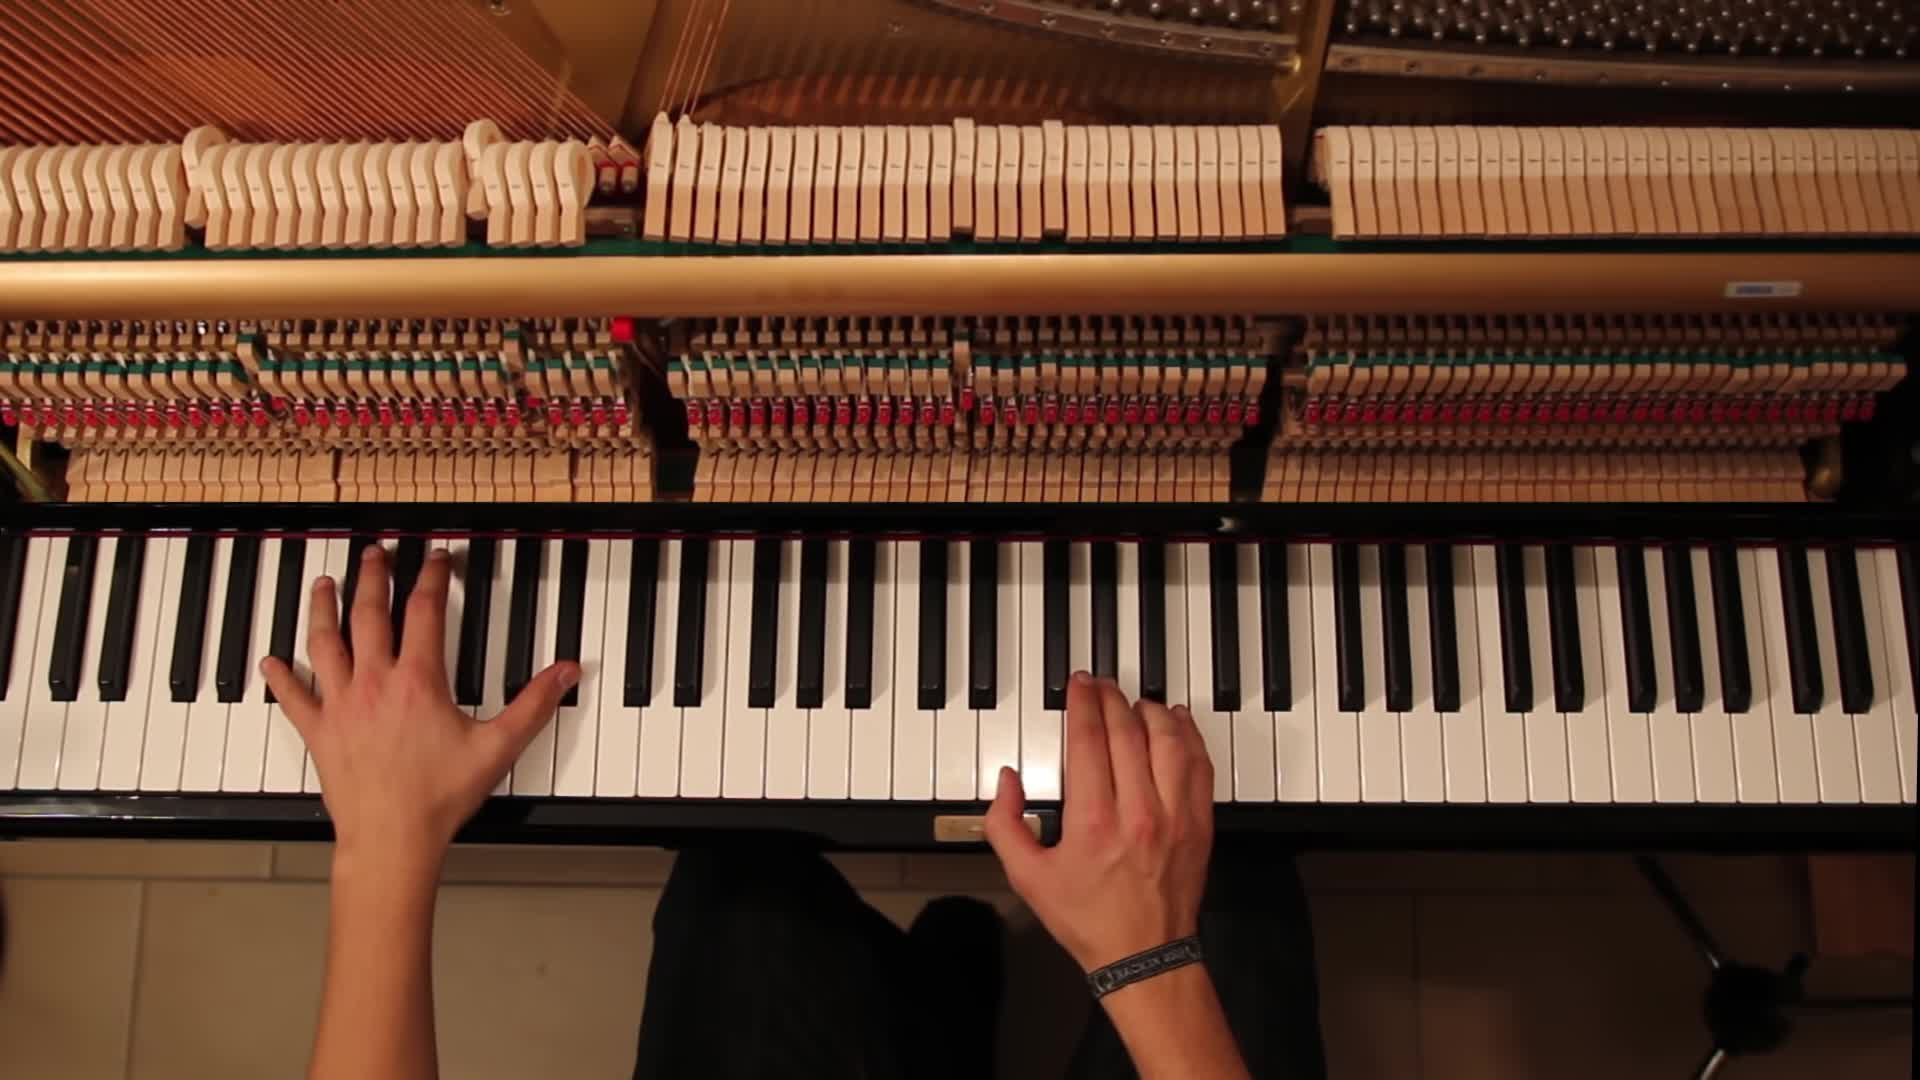left: (255, 541, 582, 847)
right: (984, 671, 1215, 961)
